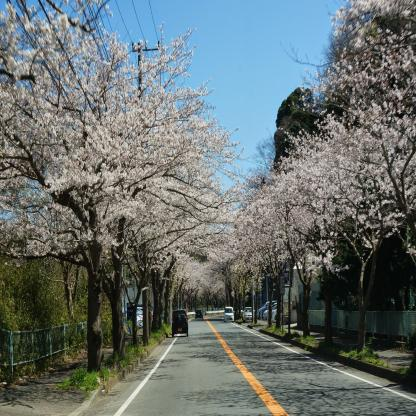Someiyoshino: (7, 4, 237, 292), (220, 2, 413, 279)
